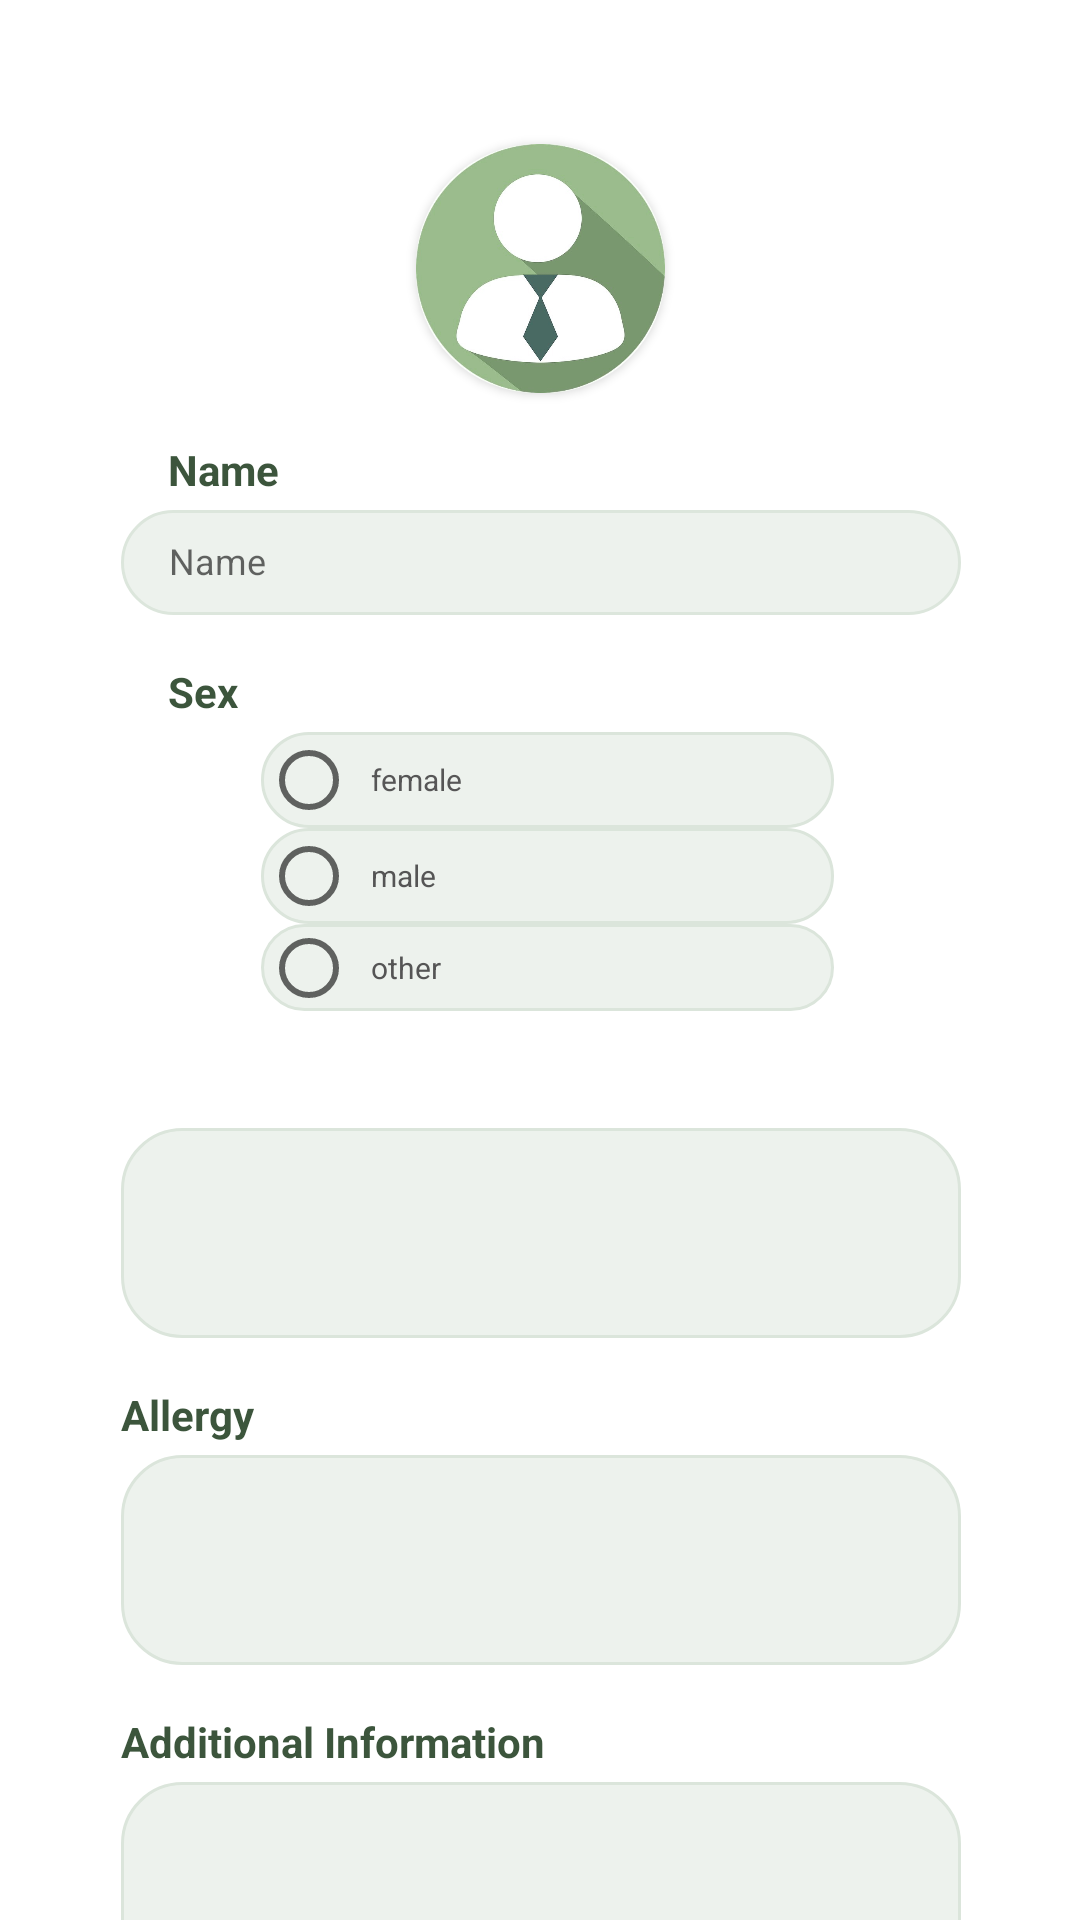

Icon click points for this 1080 x 1920 phone screenshot, format (x=x, y=y):
patiet: (x=540, y=268)
